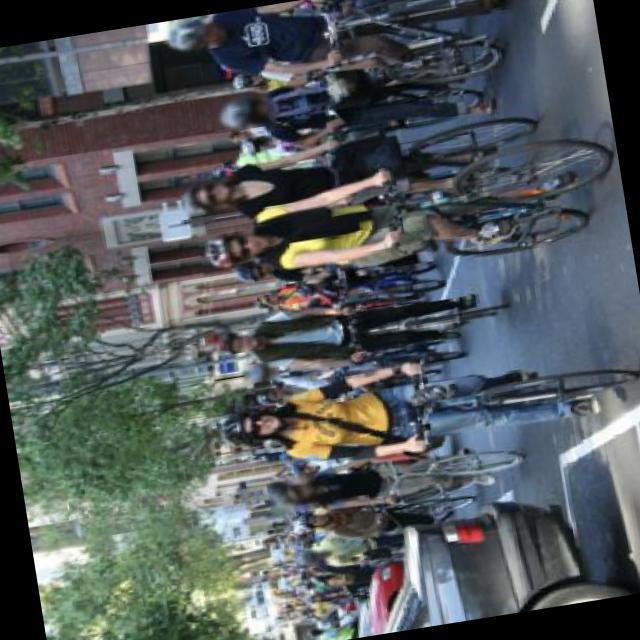With Helmet: (198, 218, 282, 276), (210, 401, 296, 453), (161, 12, 233, 54), (210, 91, 278, 134), (178, 172, 240, 218), (204, 324, 269, 358), (266, 474, 321, 514), (230, 254, 278, 285), (288, 505, 332, 536), (226, 64, 272, 92), (242, 358, 282, 382), (294, 544, 331, 568)
